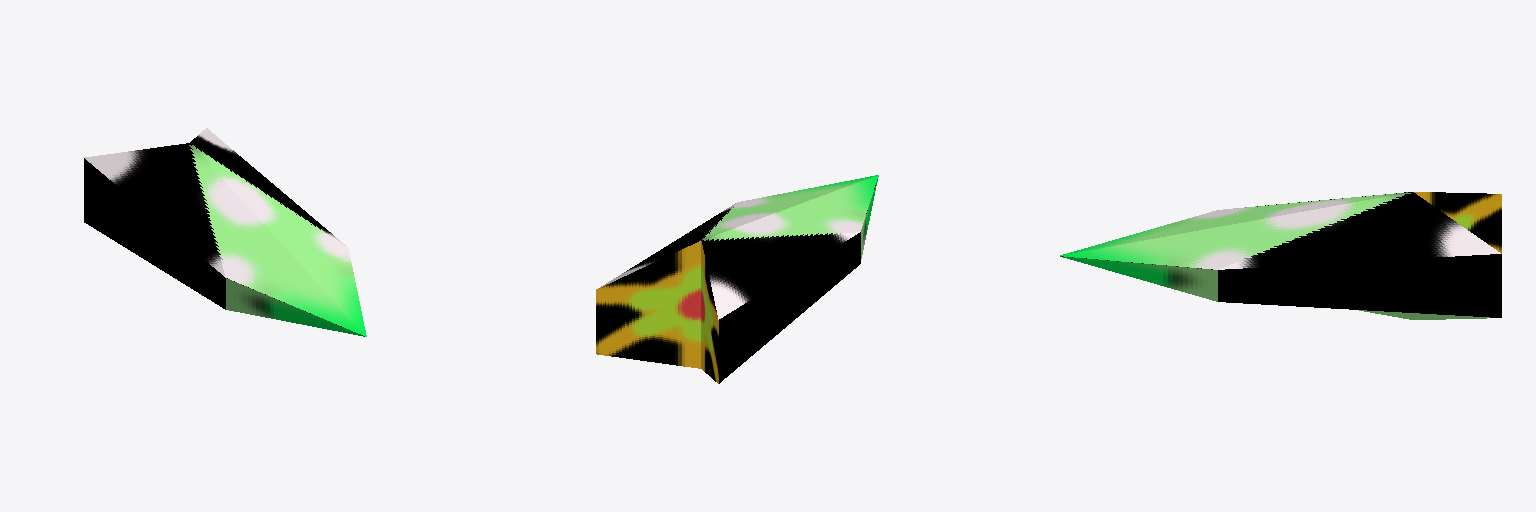
3 views of the same model, side by side, from view 1: azimuth 30°, elevation 25°; view 2: azimuth 150°, elevation 25°; view 3: azimuth 270°, elevation 25° (orthographic).
Visible parts, largest first — view 1: Cube; view 2: Cube; view 3: Cube.
Boxes of the visible parts, x1=… form: Cube: x1=84, y1=128, x2=366, y2=336; Cube: x1=596, y1=175, x2=878, y2=383; Cube: x1=1060, y1=192, x2=1501, y2=319.
Size of the model in its own units: 0.4 by 0.4 by 1.25.
1 materials, 1 textured.